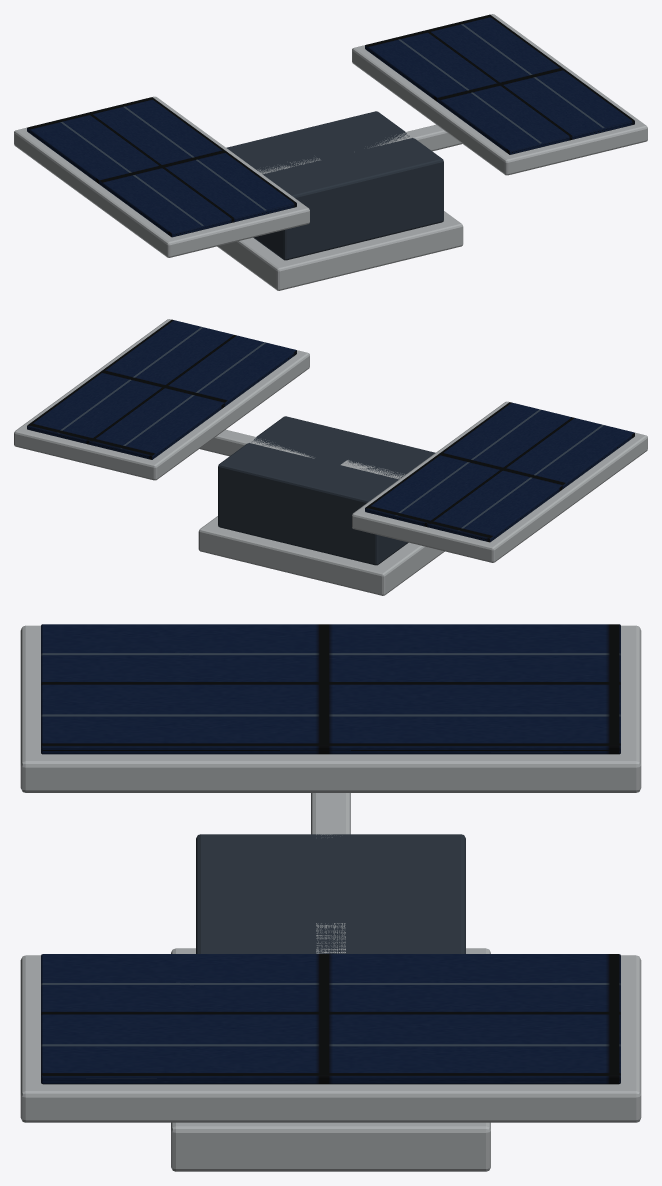
The model's file is lunar_solar_power_pack.glb.
3 views of the same model, one above another, from view 1: azimuth 30°, elevation 25°; view 2: azimuth 150°, elevation 25°; view 3: azimuth 270°, elevation 25° (orthographic). The views are drawn at different scales.
Parts seen in each view (by area): view 1: Battery_Enclosure.002, Solar_Cells.003, Solar_Cells.002, Solar_PanelFrame, Solar_PanelFrame.001, Pack_Base, Solar_Support.001; view 2: Battery_Enclosure.002, Solar_Cells.003, Solar_Cells.002, Solar_PanelFrame, Solar_PanelFrame.001, Pack_Base, Solar_Support.001; view 3: Solar_Cells.002, Solar_Cells.003, Battery_Enclosure.002, Solar_PanelFrame.001, Solar_PanelFrame, Pack_Base, Solar_Support.
Boxes of the visible parts, x1,y1,x2,y2 form: Battery_Enclosure.002: (226,111,443,260); Solar_Cells.003: (365,14,634,154); Solar_Cells.002: (27,97,296,237); Solar_PanelFrame: (14,96,309,257); Solar_PanelFrame.001: (352,14,647,175); Pack_Base: (217,211,463,290); Solar_Support.001: (371,124,462,151); Battery_Enclosure.002: (218,416,435,565); Solar_Cells.003: (27,319,296,459); Solar_Cells.002: (365,402,634,542); Solar_PanelFrame: (352,401,647,562); Solar_PanelFrame.001: (14,319,309,480); Pack_Base: (198,516,444,595); Solar_Support.001: (199,429,314,458); Solar_Cells.002: (41,624,620,754); Solar_Cells.003: (41,954,620,1084); Battery_Enclosure.002: (196,834,465,953); Solar_PanelFrame.001: (20,955,641,1122); Solar_PanelFrame: (20,625,641,792); Pack_Base: (171,948,490,1171); Solar_Support: (311,793,350,837).
Size of the model in its own units: 1.11 by 0.257 by 0.62.
Materials: 3 (1 with a texture image).
